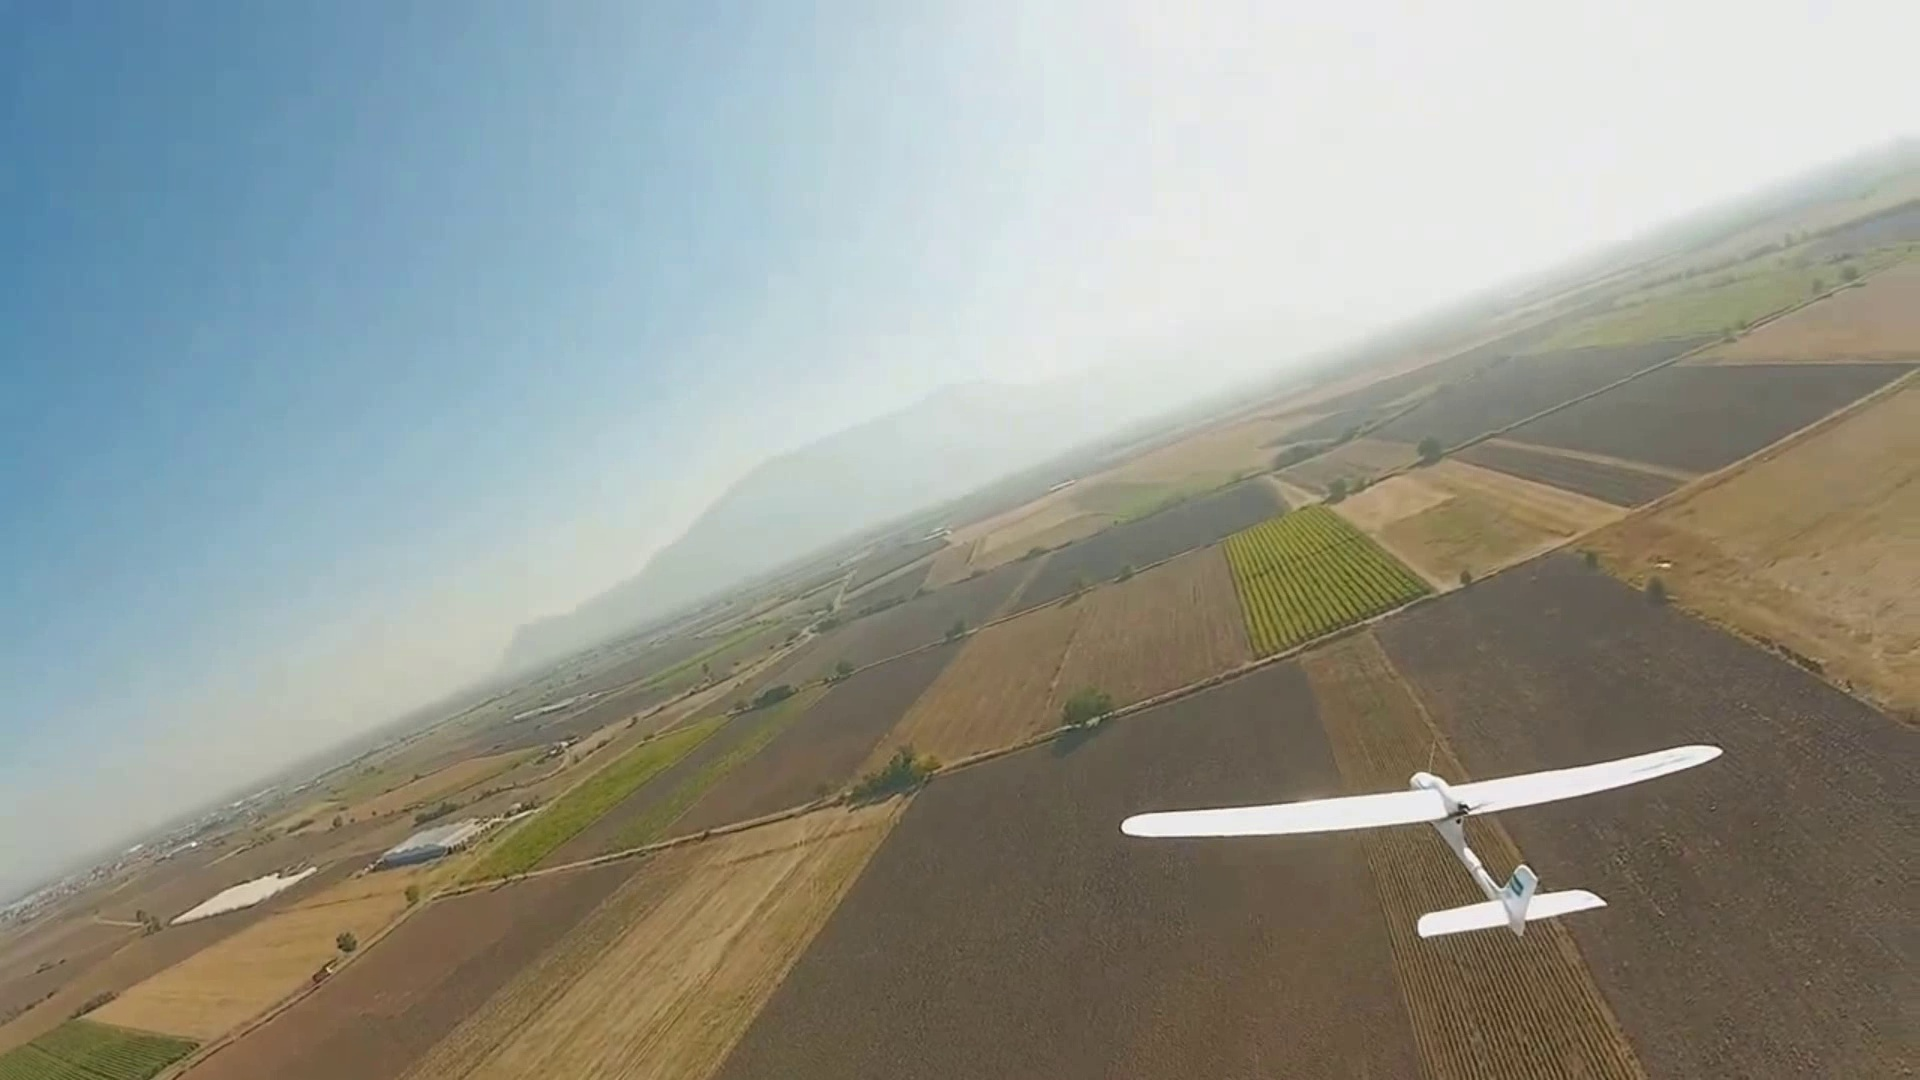airplane: (84, 116, 1920, 949), (1121, 742, 1722, 940)
